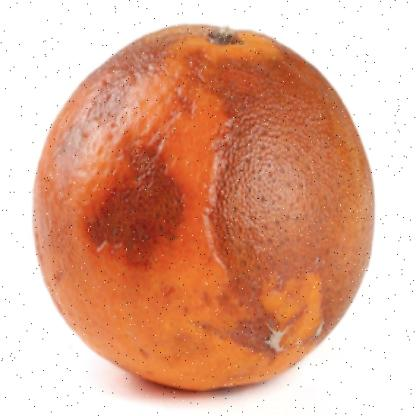rotten: (34, 24, 376, 397)
